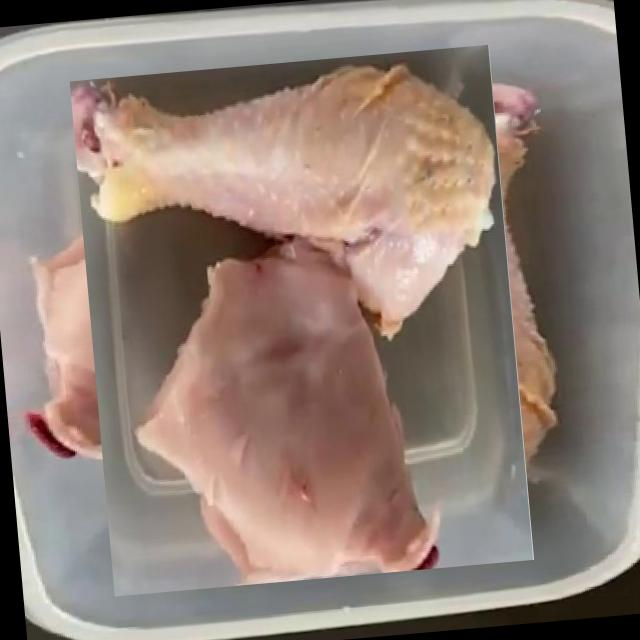chicken: (47, 66, 556, 574)
